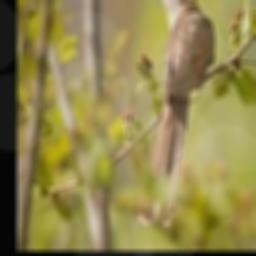Cuckoo: (140, 0, 216, 226)
